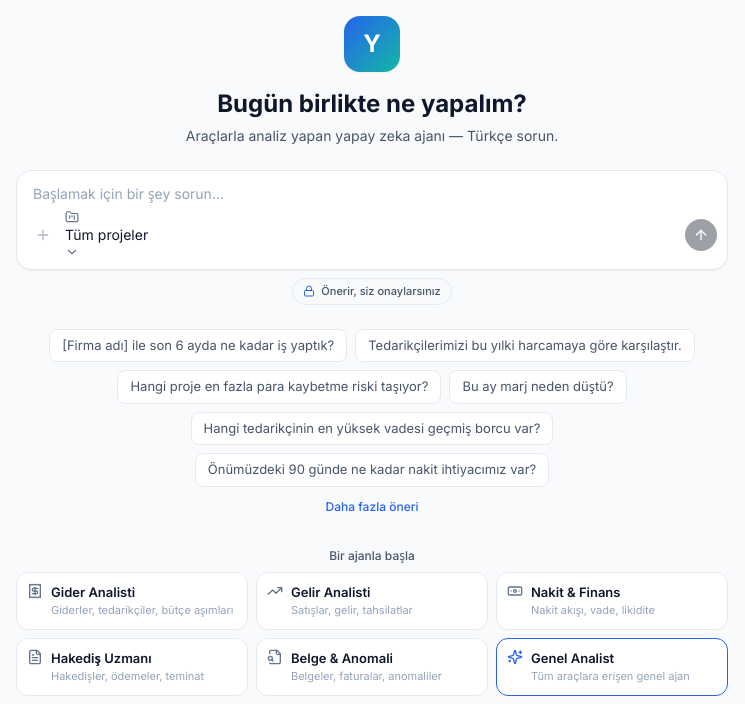
AIAssistantPage live streaming (CR-011-D) › on final renders the answer + citation chip and stops the loading state
In the text box: (372, 188) [17,171,727,206], type "Akçansa ne kadar?"
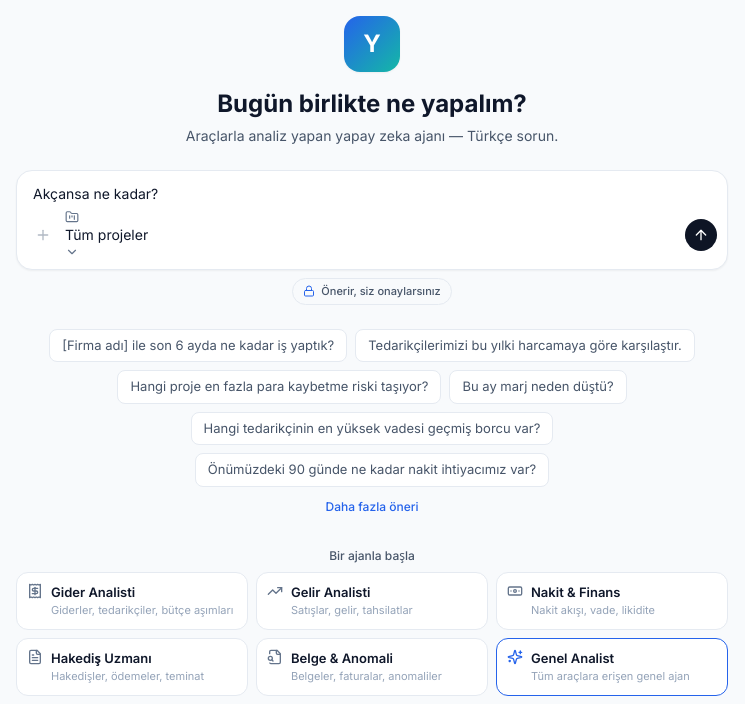
Click the button named "Gönder": (701, 234) [685,218,717,250]
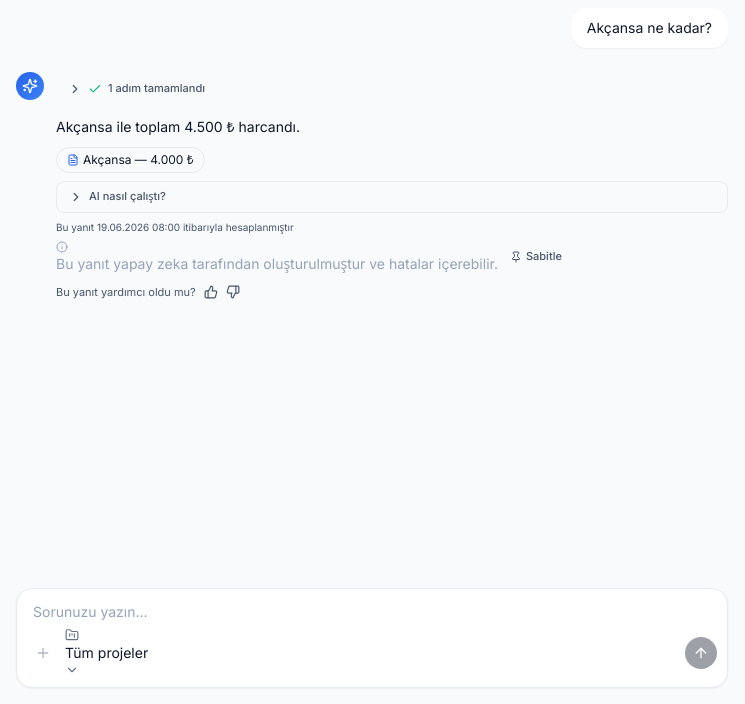
Check: the text "Akçansa ile toplam 4.500 ₺ harcandı." is shown, box [56,118,300,135]
Check: the text "Akçansa — 4.000 ₺" is shown, box [83,152,194,168]
In the text box with placeholder "Sorunuzu yazın…": (372, 606) [17,589,727,624], type "tekrar"
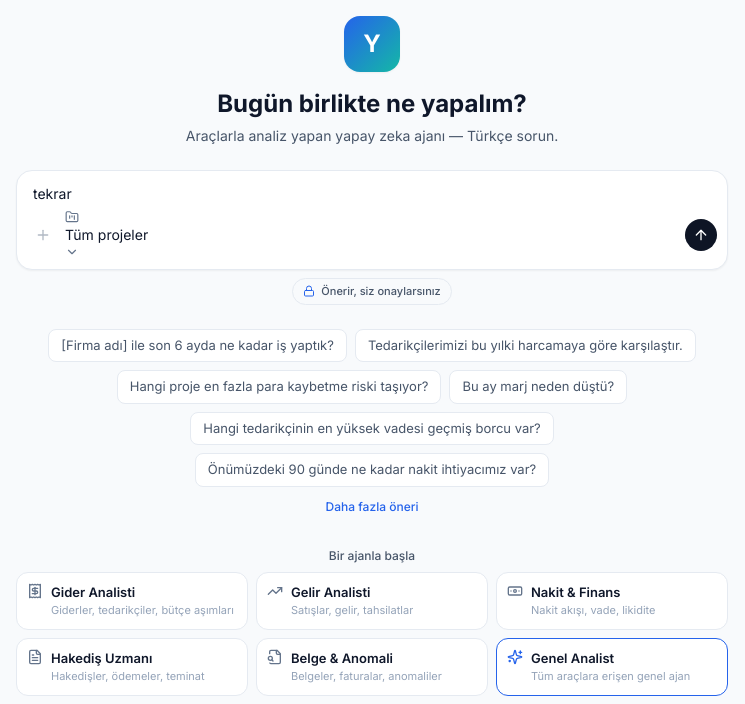
Check: the button named "Gönder" is enabled, box [685,218,717,250]
